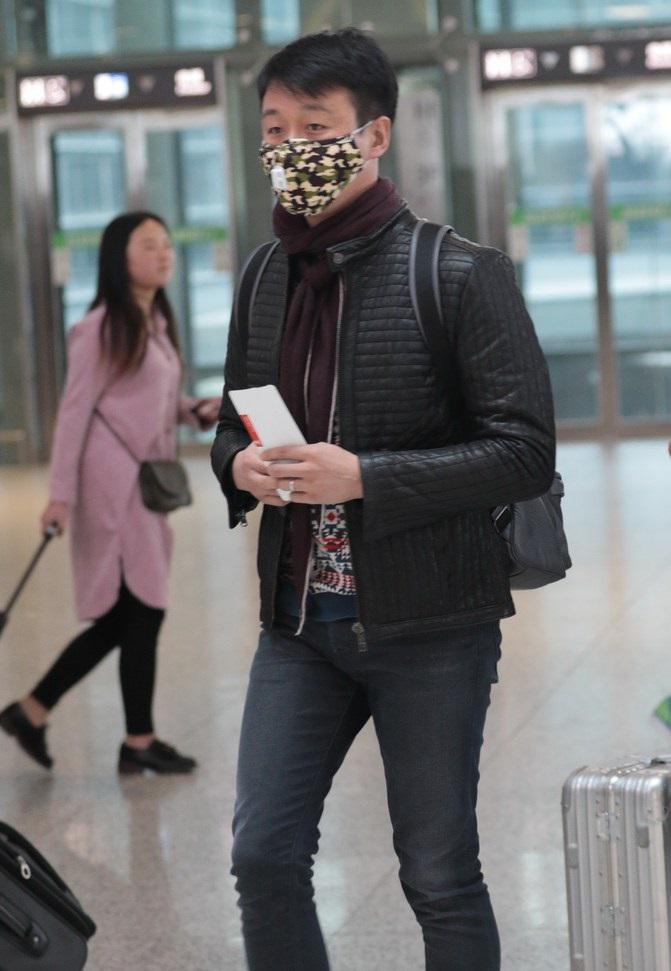NONE: (124, 229, 182, 289)
OK: (262, 101, 370, 209)
